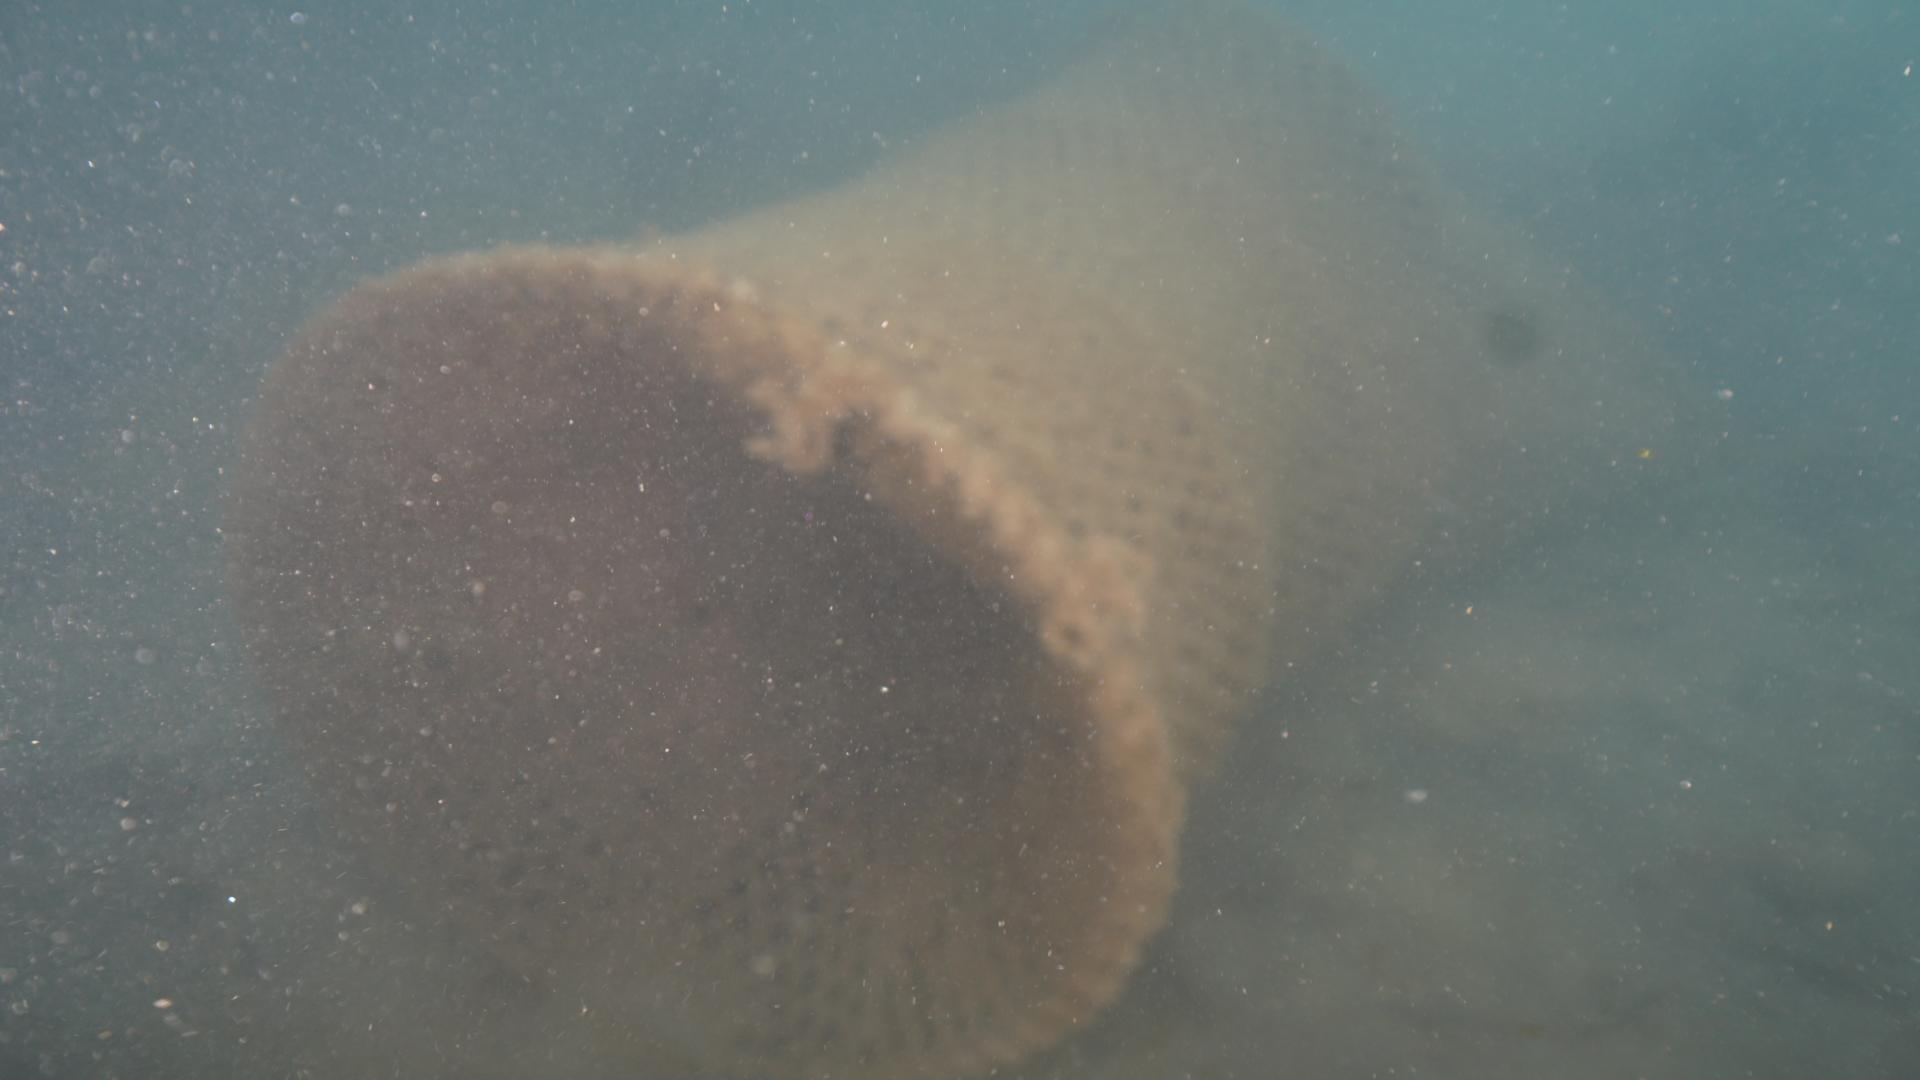spring fish trap: (206, 8, 1573, 1080)
